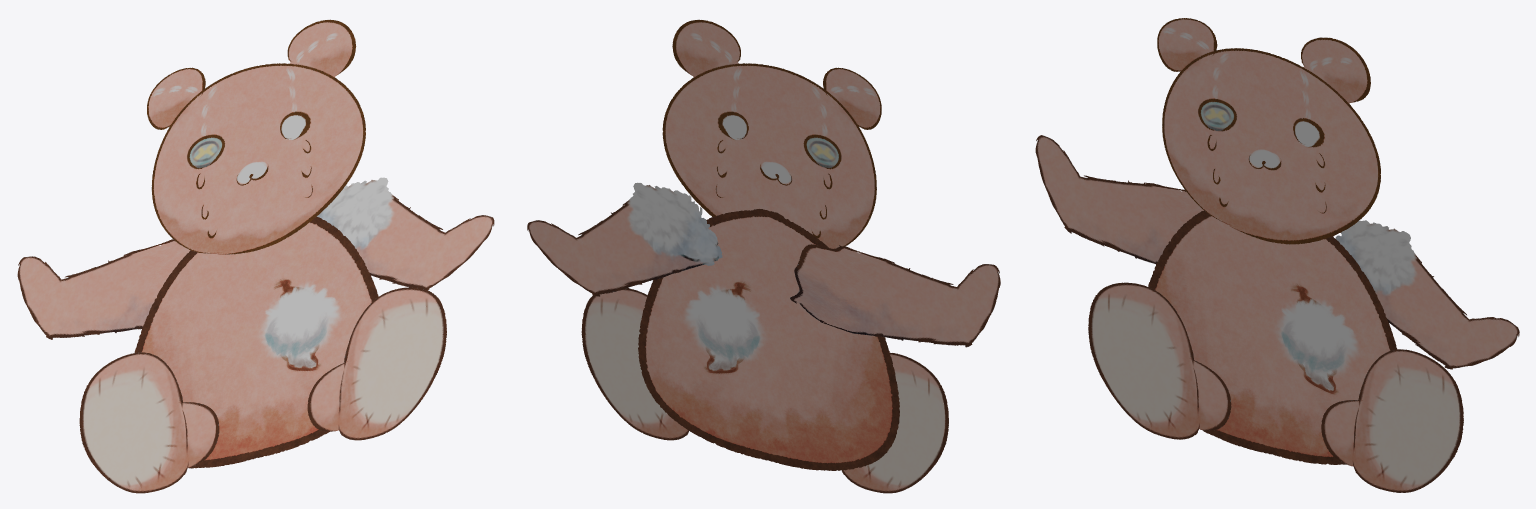
The model's file is kuma_b.fbx.
The picture shows the model from 3 angles, left to right: view 1: azimuth 30°, elevation 25°; view 2: azimuth 150°, elevation 25°; view 3: azimuth 330°, elevation 25°; orthographic projection. The views are drawn at different scales.
Parts seen in each view (by area): view 1: head, boddy1, leg_r.001, leg_l, leg_r, arm_h1; view 2: boddy1, head, leg_r, arm_h1, leg_l, leg_r.001; view 3: head, boddy1, leg_r.001, leg_l, arm_h1, leg_r.
Part boxes in pixels (bbox=[...]): head: bbox=[147, 19, 365, 254]; boddy1: bbox=[134, 217, 378, 468]; leg_r.001: bbox=[79, 352, 219, 493]; leg_l: bbox=[307, 287, 446, 440]; leg_r: bbox=[17, 239, 189, 339]; arm_h1: bbox=[317, 177, 494, 290]; boddy1: bbox=[638, 209, 899, 470]; head: bbox=[662, 19, 881, 248]; leg_r: bbox=[790, 244, 1000, 347]; arm_h1: bbox=[527, 182, 722, 296]; leg_l: bbox=[581, 288, 688, 440]; leg_r.001: bbox=[841, 352, 948, 493]; head: bbox=[1157, 18, 1380, 244]; boddy1: bbox=[1148, 210, 1396, 464]; leg_r.001: bbox=[1088, 282, 1231, 439]; leg_l: bbox=[1321, 349, 1463, 492]; arm_h1: bbox=[1335, 220, 1519, 369]; leg_r: bbox=[1035, 135, 1203, 264].
Bounding box in the file's own units: 1586 × 1383 × 29.51.
